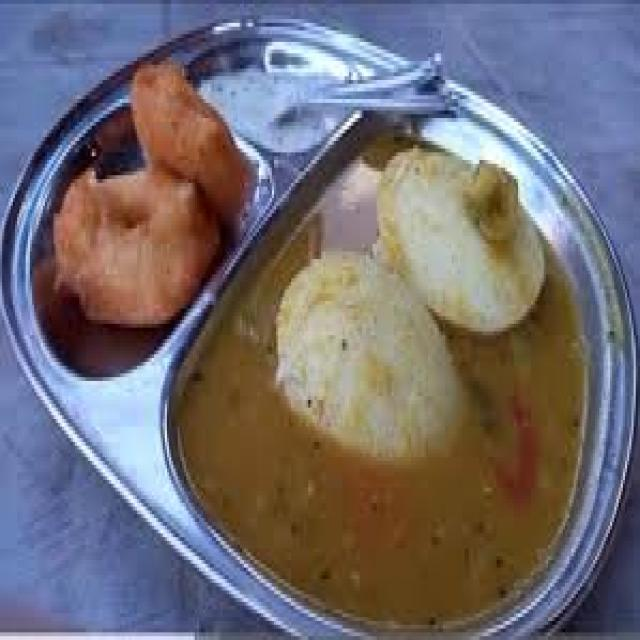IDLI: (275, 241, 458, 470), (382, 153, 546, 326)
MEDU VADA: (55, 174, 219, 330), (133, 66, 244, 225)
